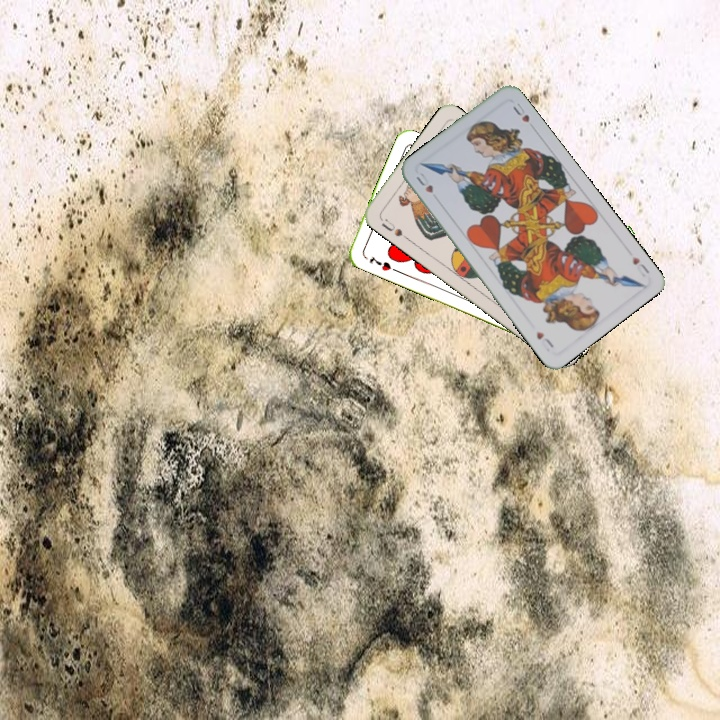H7: (365, 252, 394, 274)
HU: (412, 168, 436, 196), (628, 253, 652, 279)
SU: (377, 215, 411, 243)
